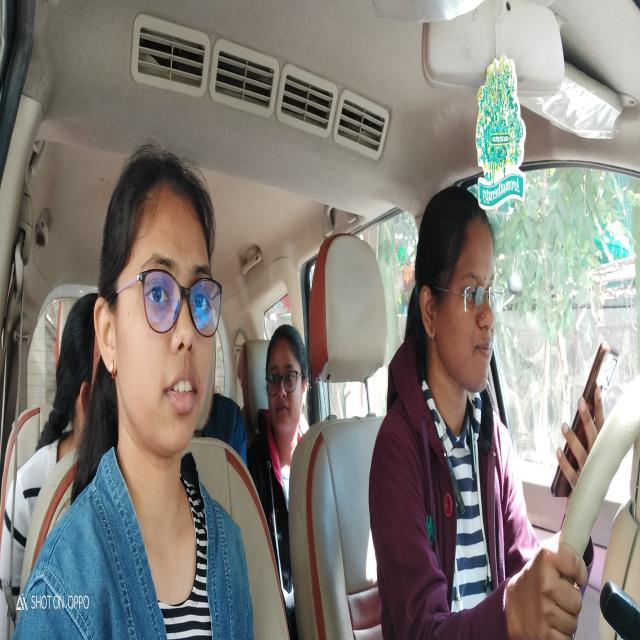mobile: (549, 327, 621, 510)
person: (88, 140, 225, 461), (411, 189, 503, 404), (57, 286, 100, 440), (262, 321, 312, 446)
